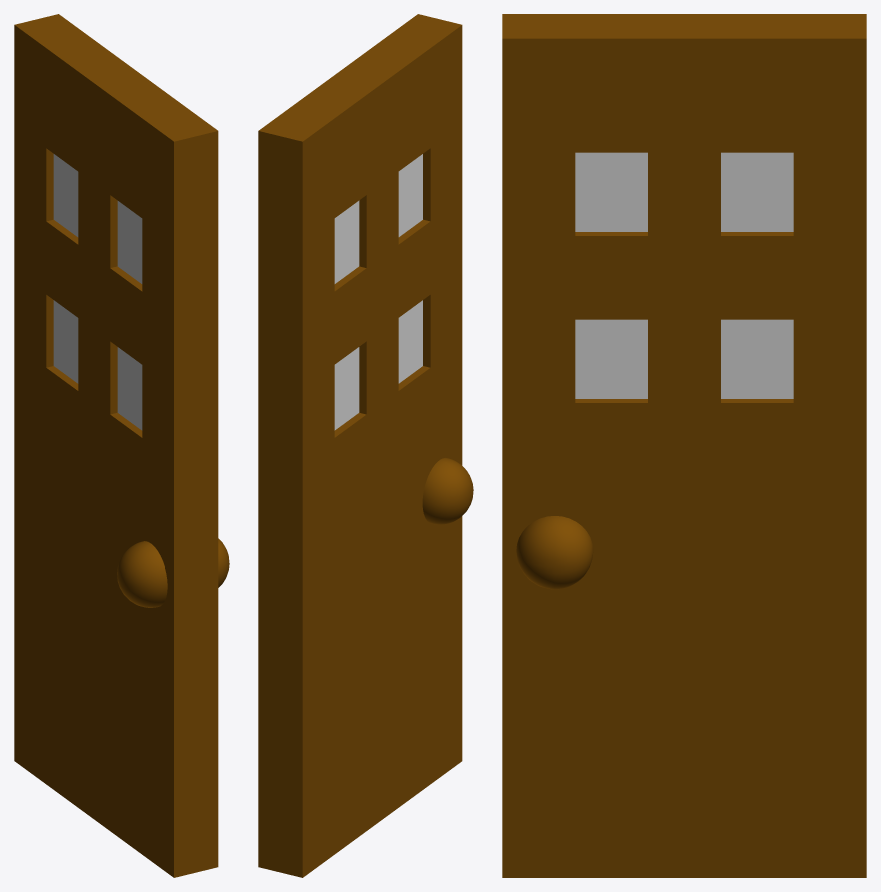
File: Door.fbx
3 views of the same model, side by side, from view 1: azimuth 30°, elevation 25°; view 2: azimuth 150°, elevation 25°; view 3: azimuth 270°, elevation 25° (orthographic). The views are drawn at different scales.
Parts seen in each view (by area): view 1: Cube; view 2: Cube; view 3: Cube.
Part boxes in pixels (x1=…): Cube: x1=14, y1=14, x2=229, y2=877; Cube: x1=258, y1=14, x2=473, y2=877; Cube: x1=502, y1=14, x2=866, y2=877.
Size of the model in its own units: 74.95 by 509 by 200.
